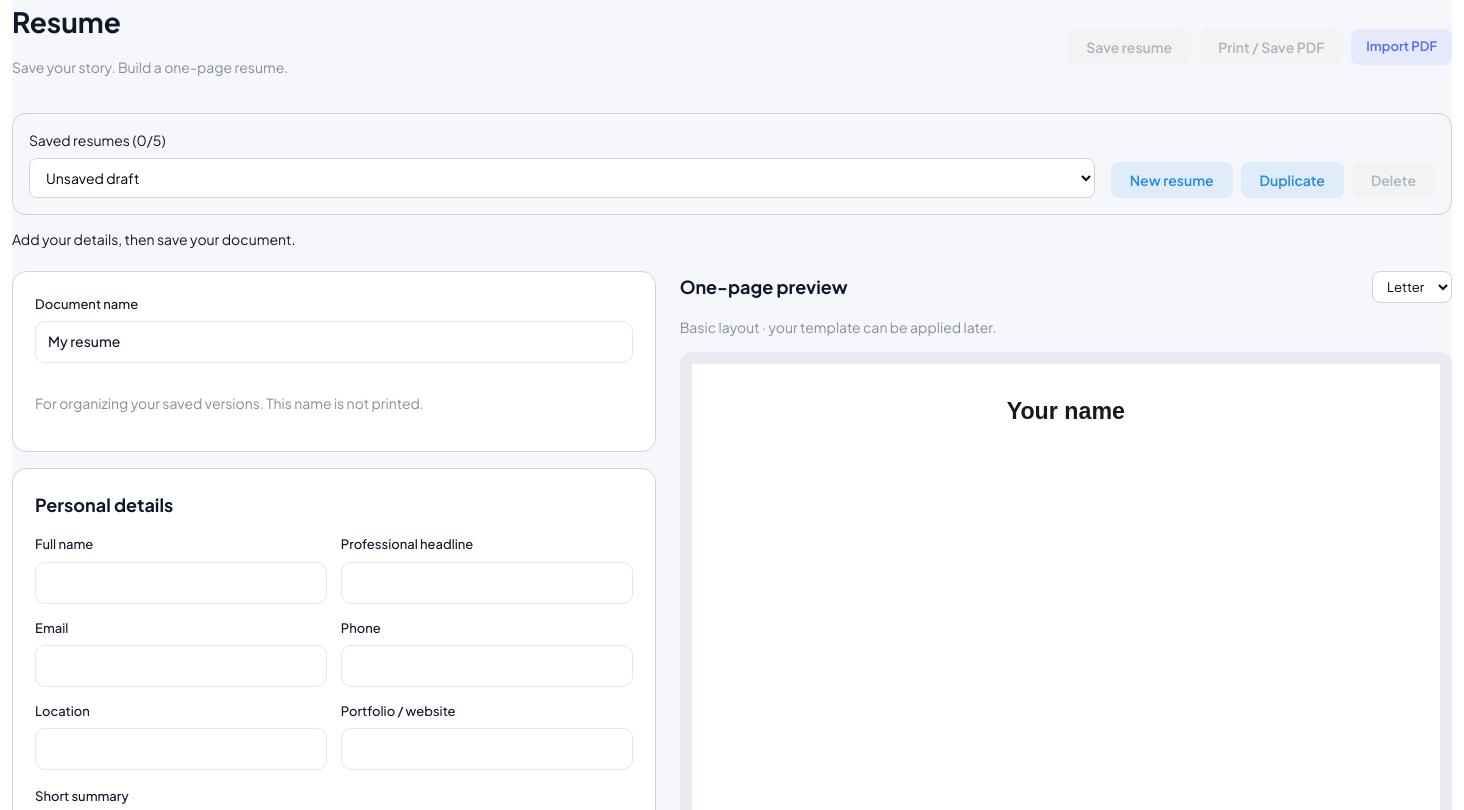
keeps input after failed save and allows retry
This screenshot has width=1464, height=810.
Check: the text "Add your details, then save your document." is shown, box 12,230 -> 296,248
Type "Unsaved" into the field labelled "Full name" at (181, 583), box 35,562 -> 327,604
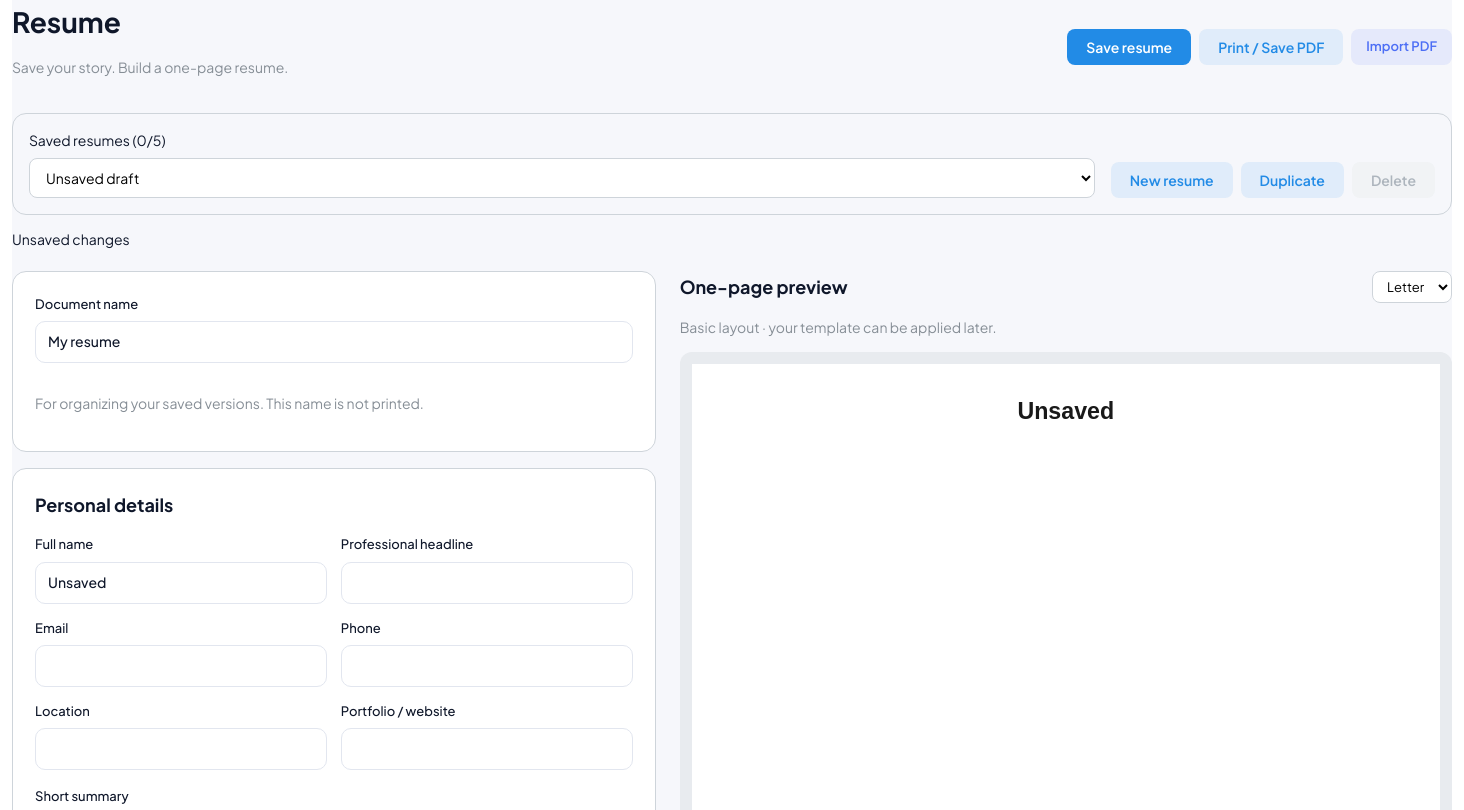
Click the button "Save resume" at (1129, 46), box 1067,28 -> 1191,64
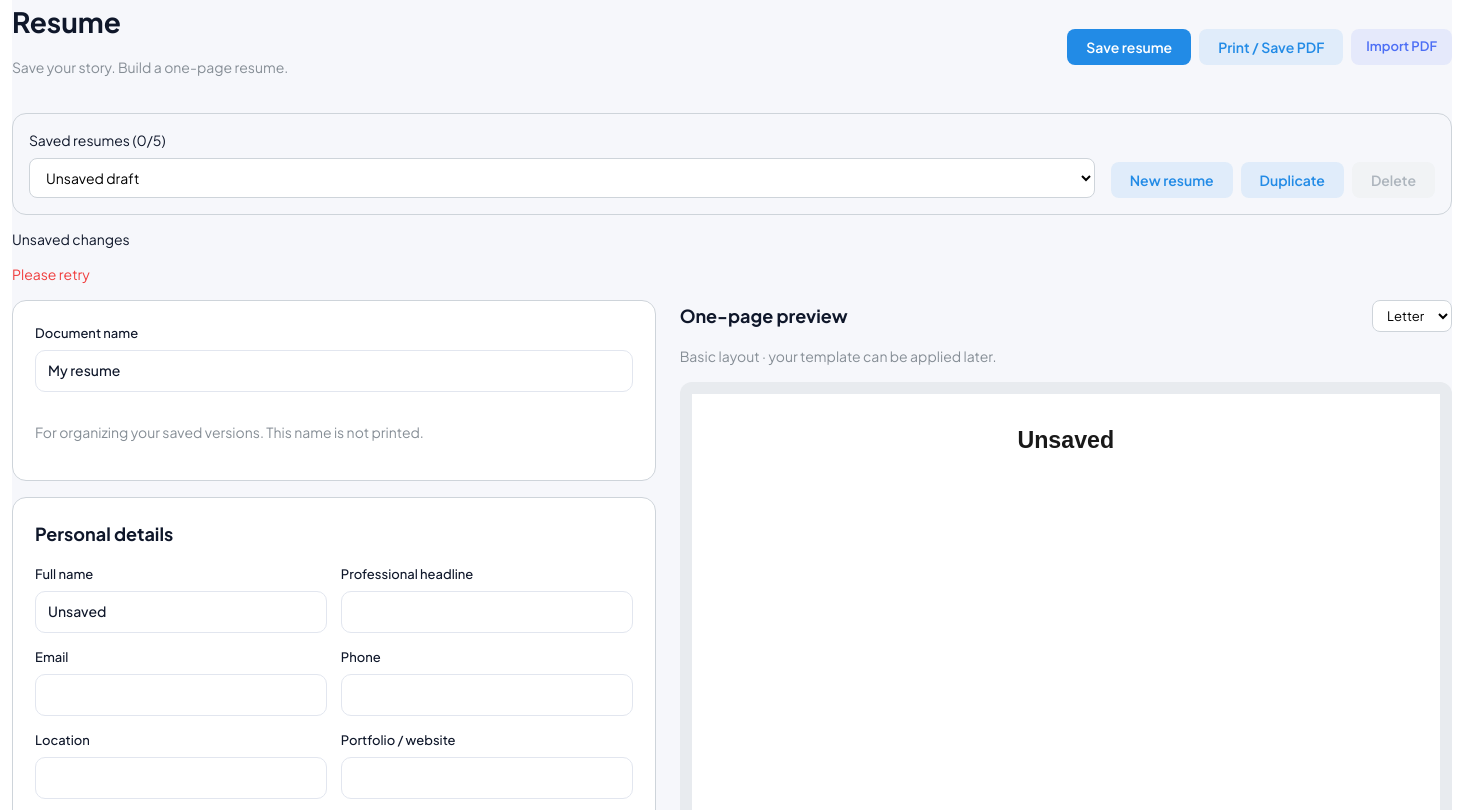
Check: the button "Save resume" is enabled, box 1067,28 -> 1191,64
Check: the message "Please retry" is shown, box 12,266 -> 90,284
